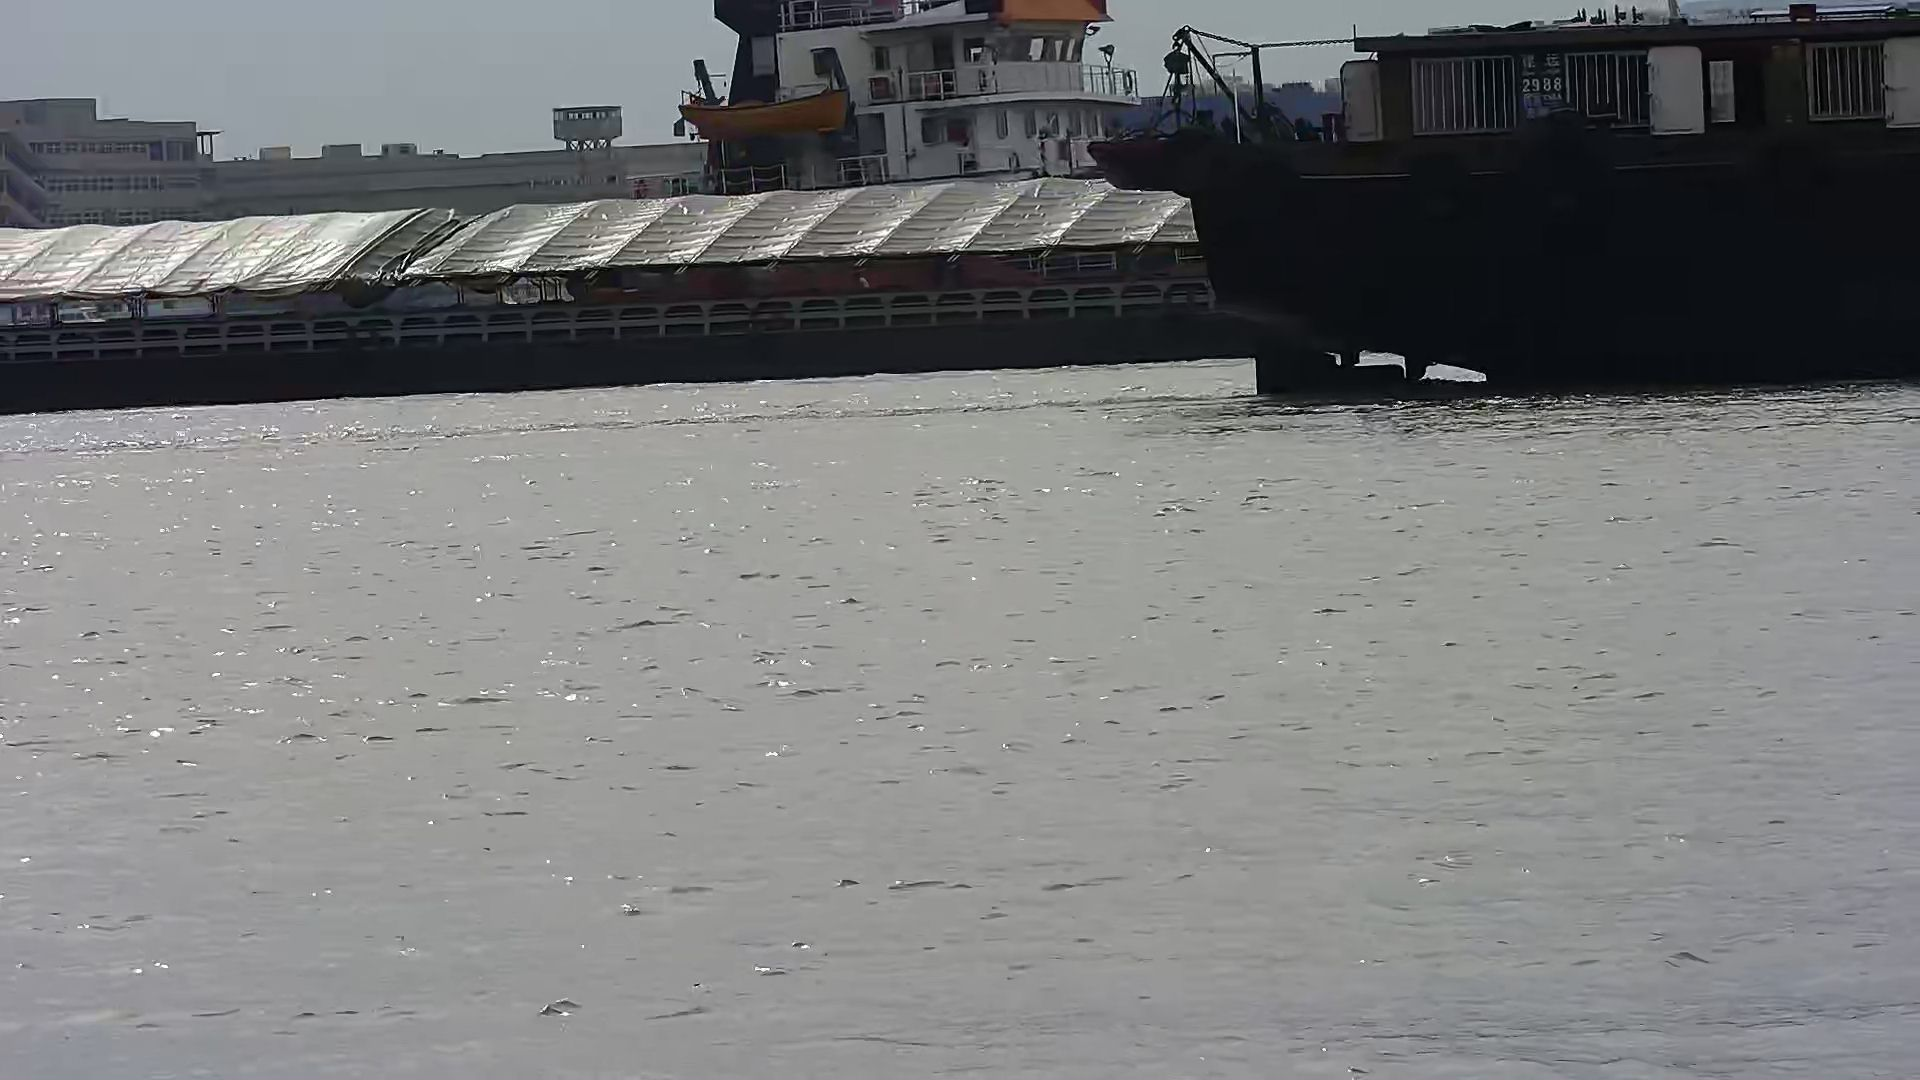ship: (1079, 7, 1920, 429), (1, 161, 1222, 425), (676, 3, 1195, 233)
